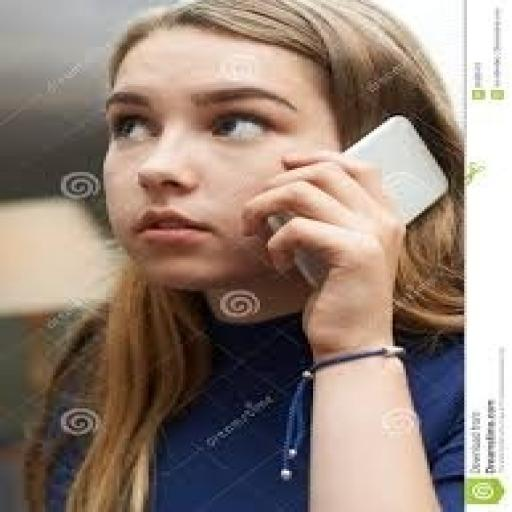calling: (14, 0, 464, 510)
